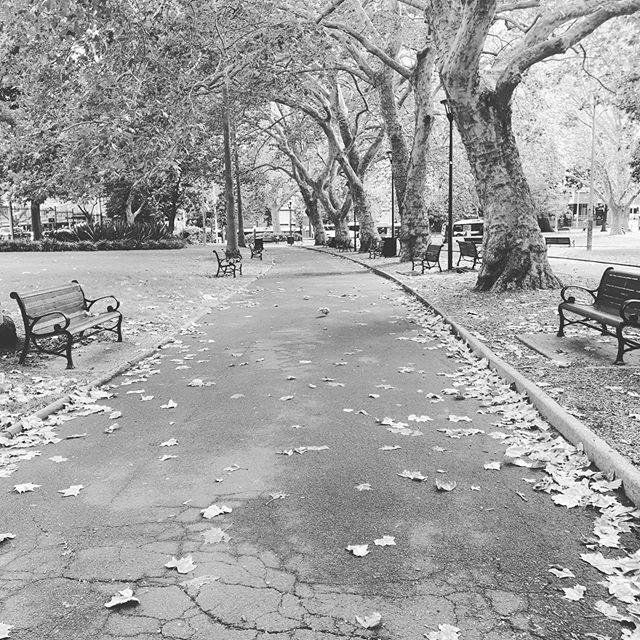bench: (10, 276, 126, 371), (546, 257, 640, 360), (200, 240, 250, 289), (397, 237, 455, 274)
street: (29, 267, 606, 620)
tree: (1, 1, 347, 241), (423, 1, 640, 300), (283, 1, 390, 250), (351, 1, 441, 271)
